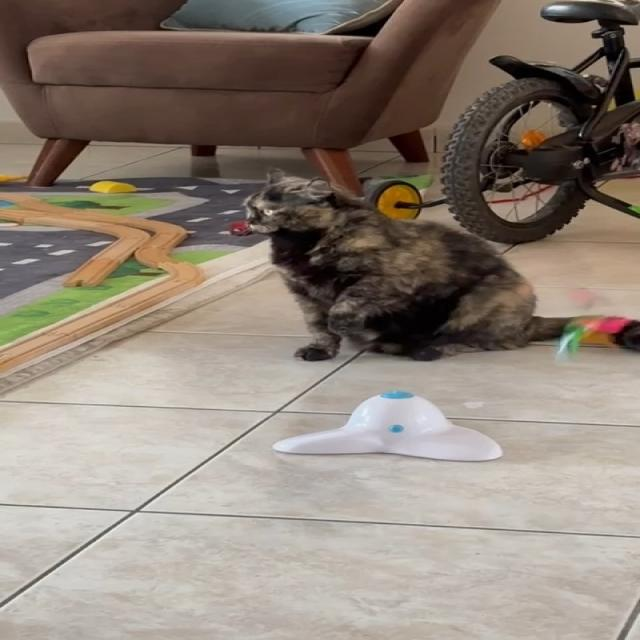authorized: (239, 167, 636, 362)
